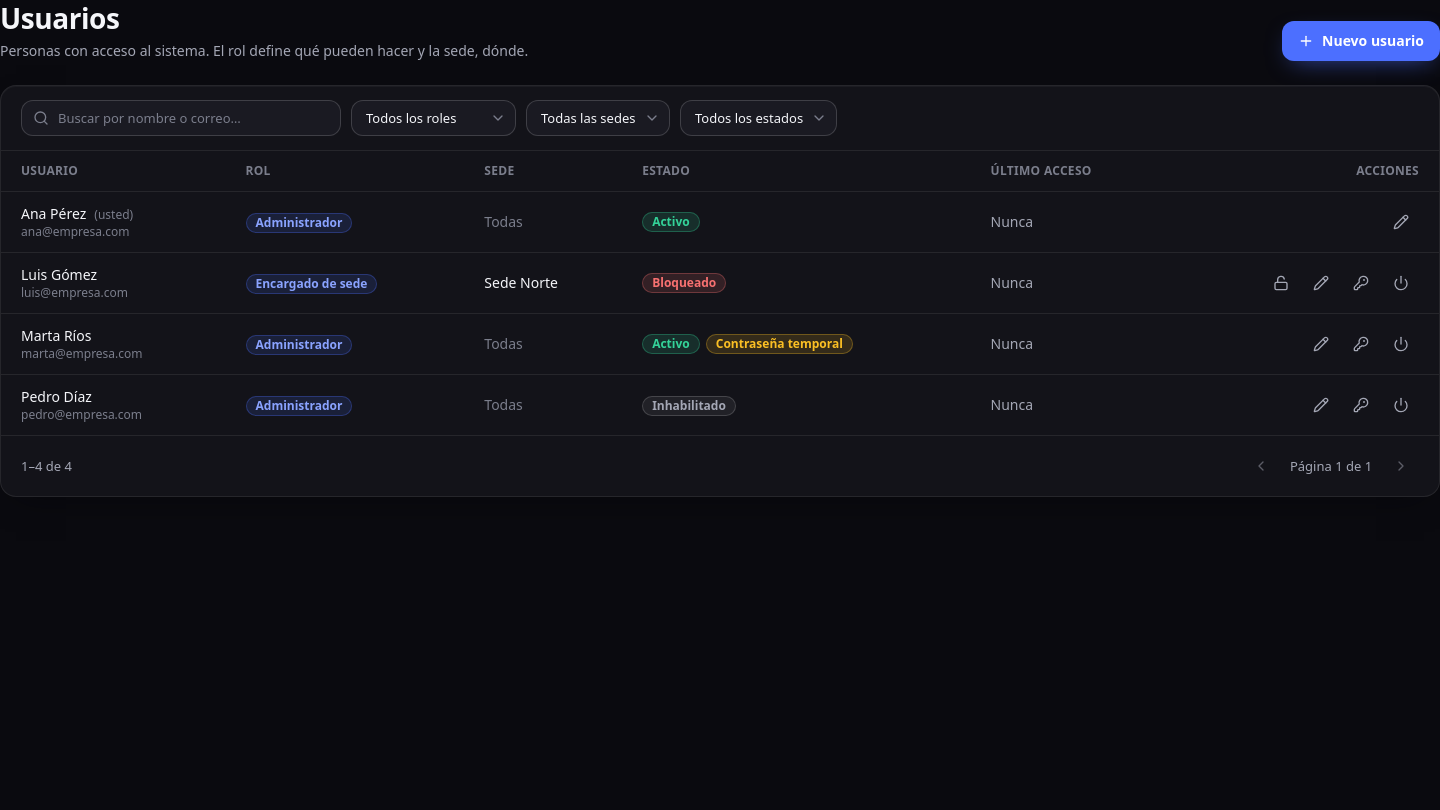
Test case: <UsuariosPage> › rechaza contraseñas que no cumplen la política, con el motivo en español
The image size is (1440, 810).
Click the button "Nuevo usuario" at [1361, 41], box [1282, 21, 1439, 61]
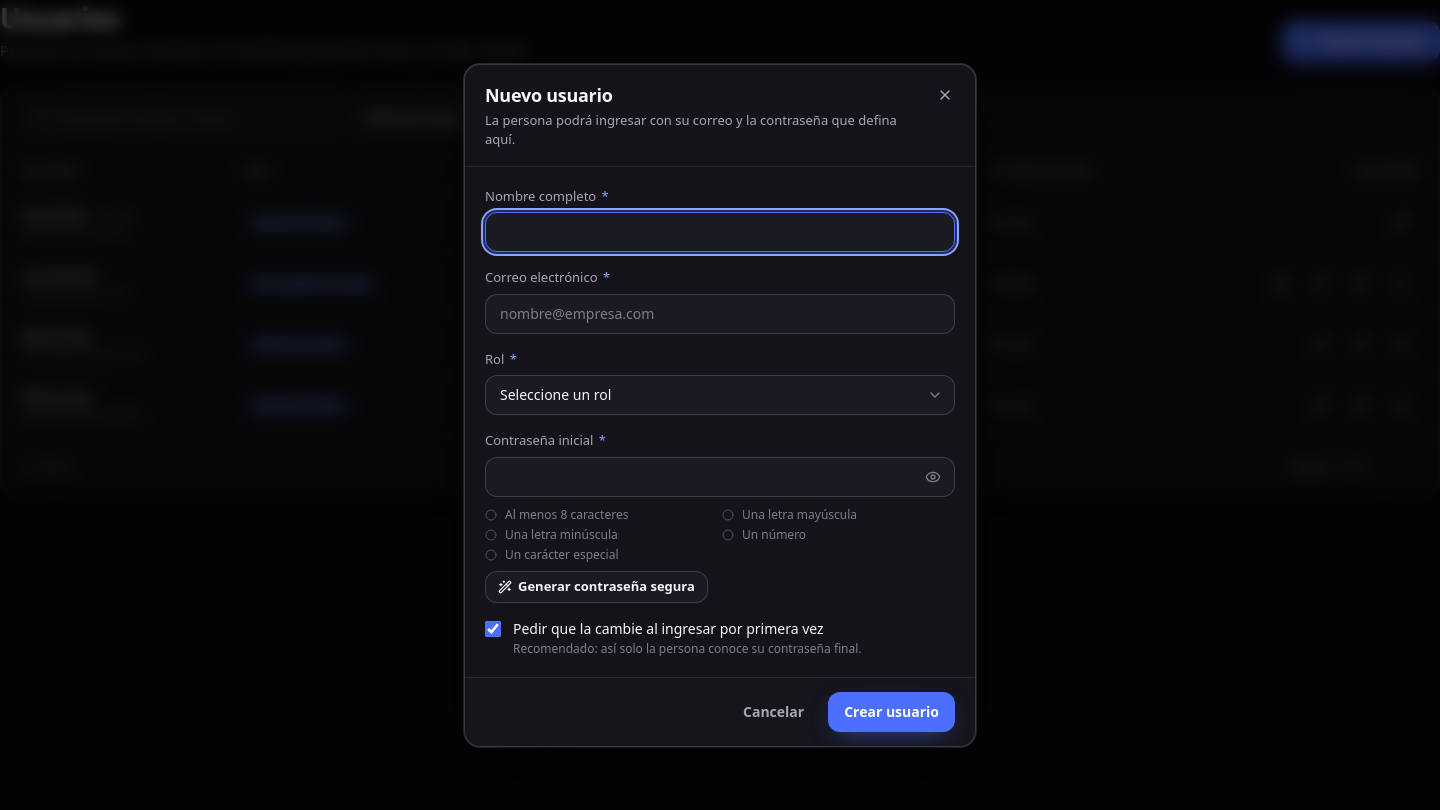
Type "Carla Mora" into the field labelled "Nombre completo *" at [720, 232], box [485, 212, 955, 252]
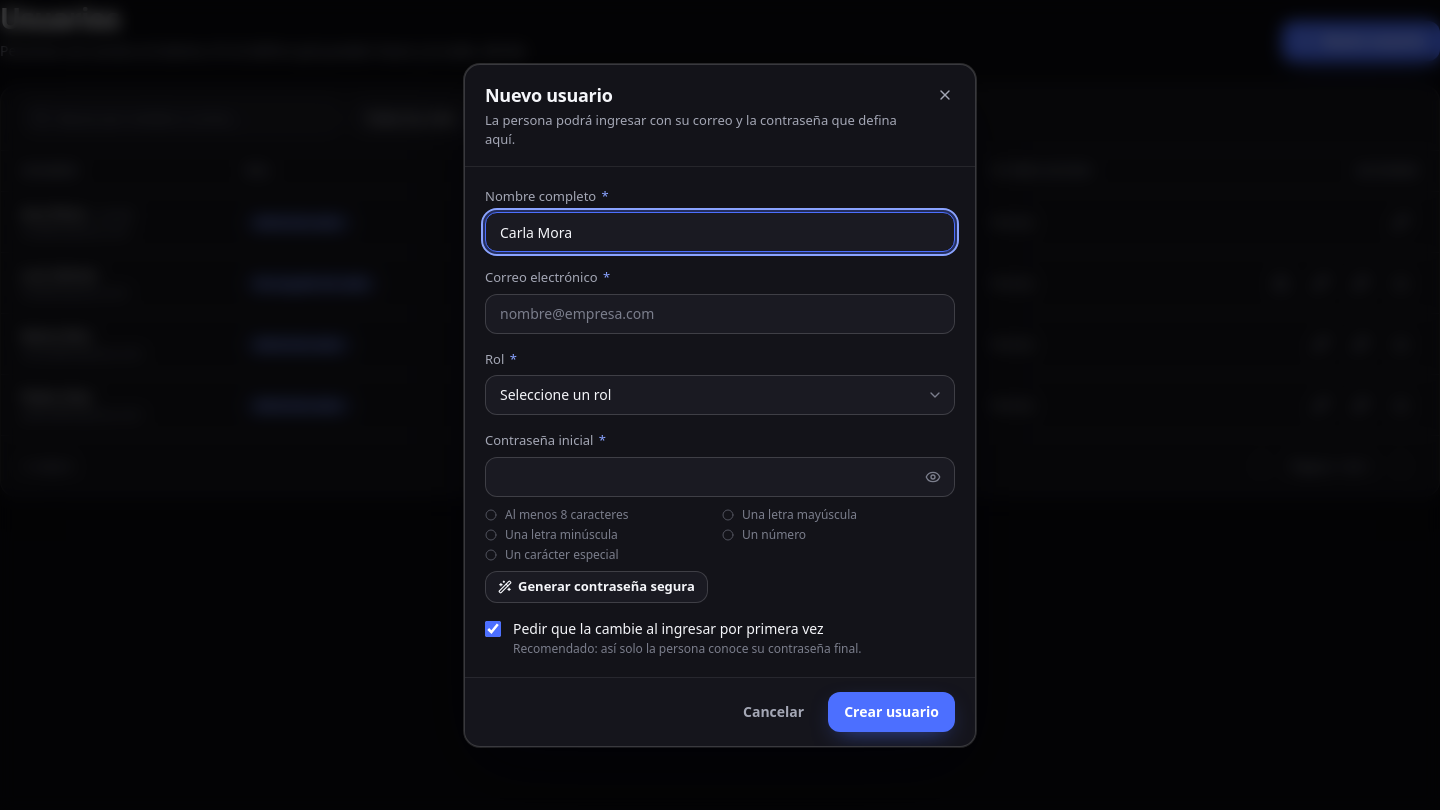
Type "carla@empresa.com" into the field labelled "Correo electrónico *" at [720, 314], box [485, 294, 955, 334]
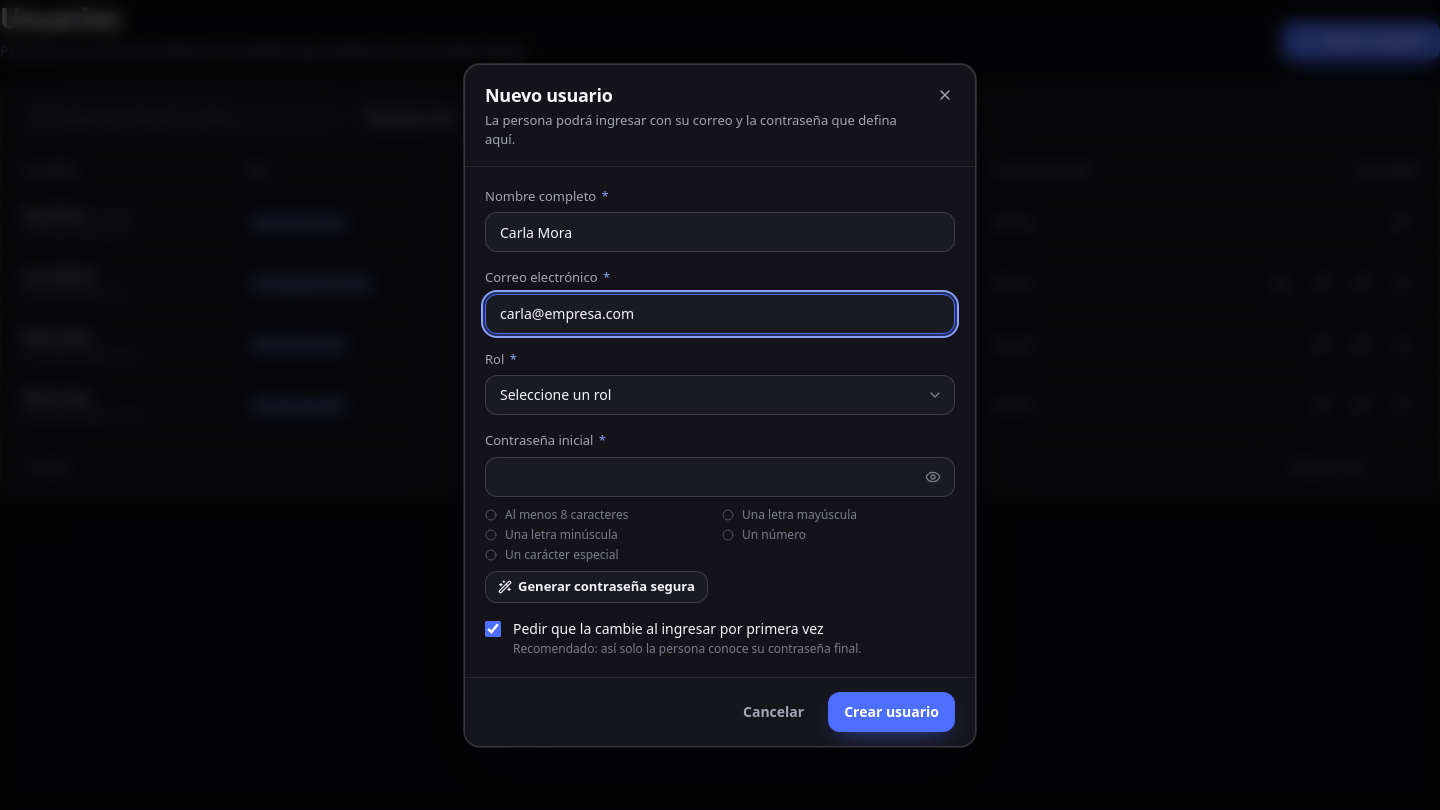
Select "Administrador" in the dropdown labelled "Rol *" at [720, 395], box [485, 375, 955, 415]
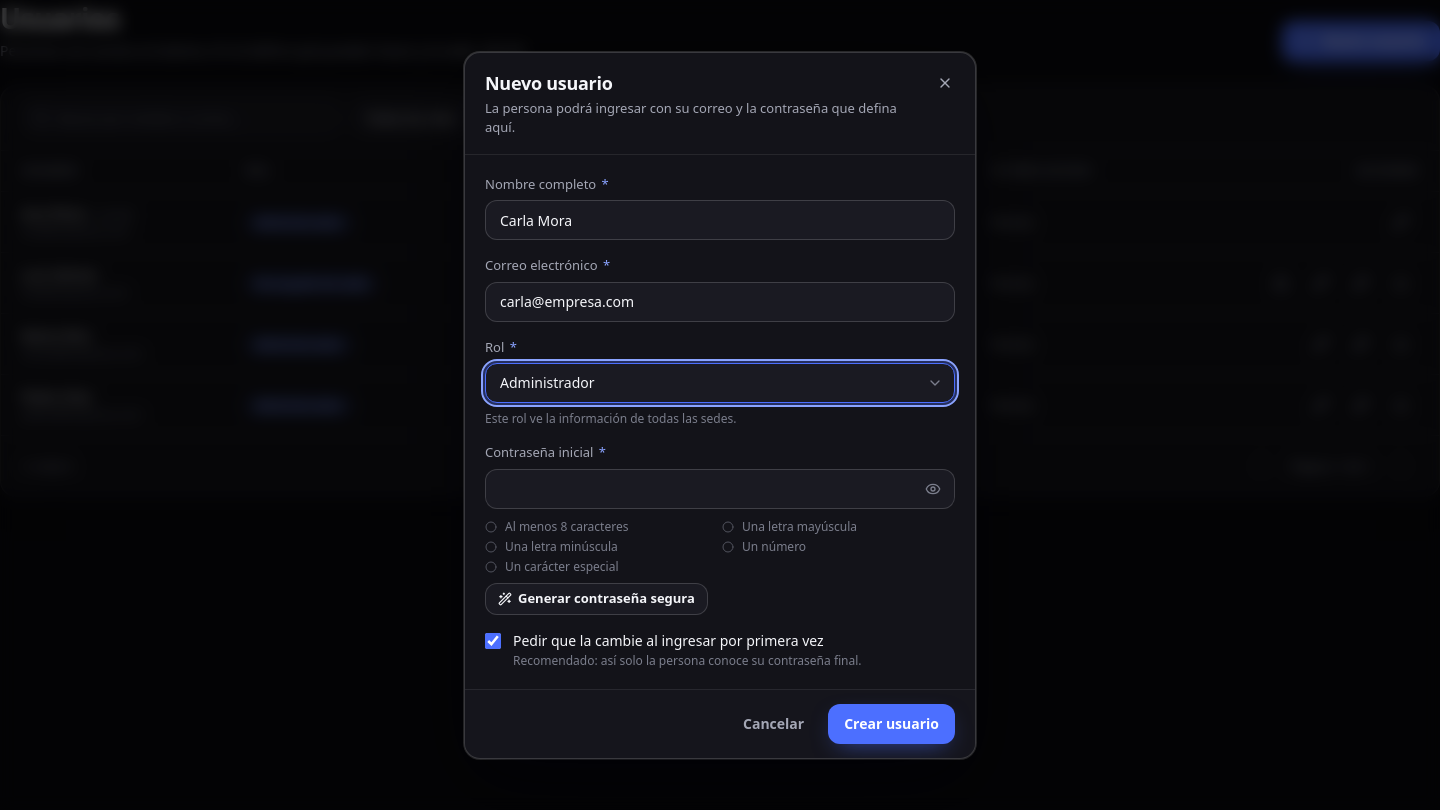
Type "debil" into the password field labelled "Contraseña inicial *" at [720, 488], box [485, 468, 955, 508]
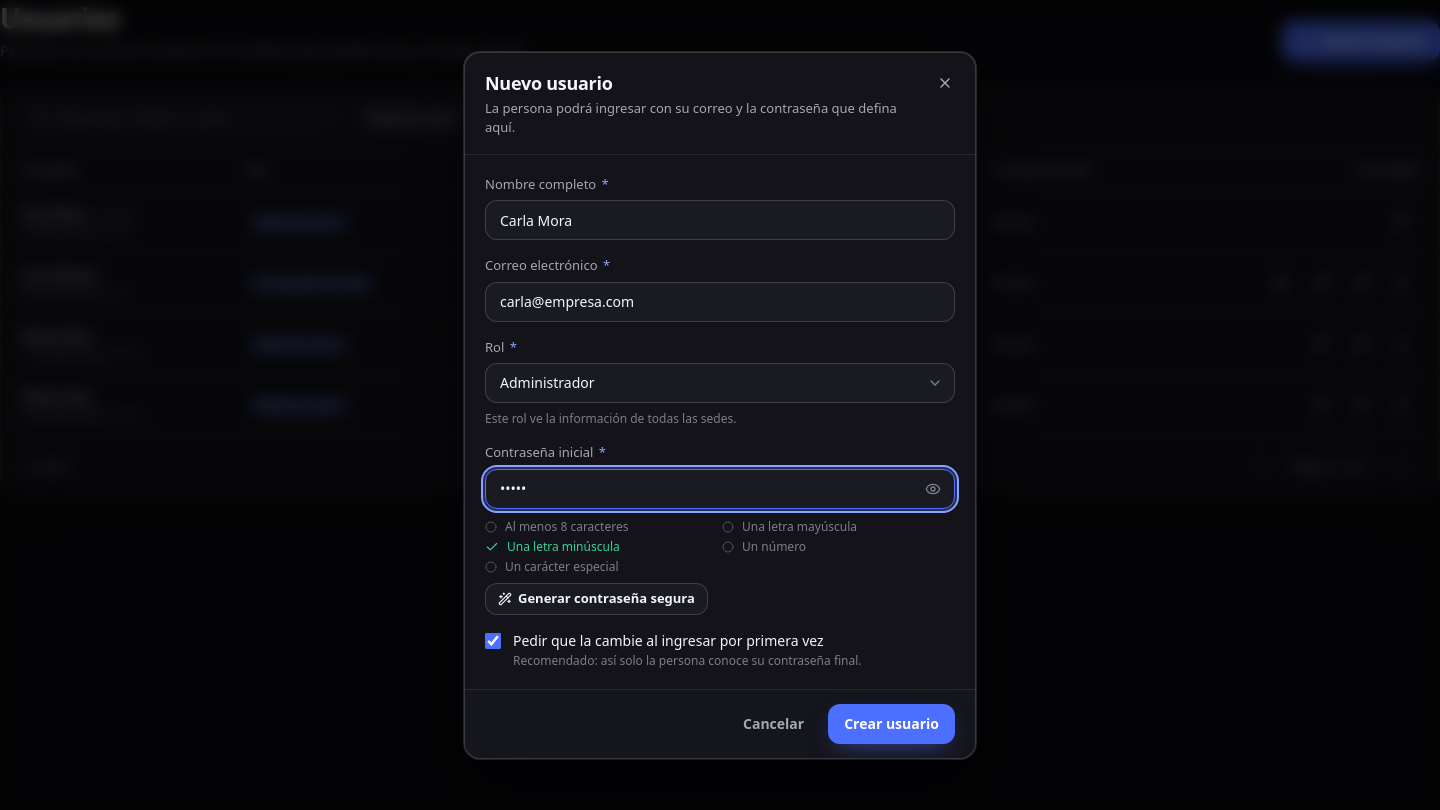
Click the button "Crear usuario" at [892, 724], box [828, 704, 955, 744]
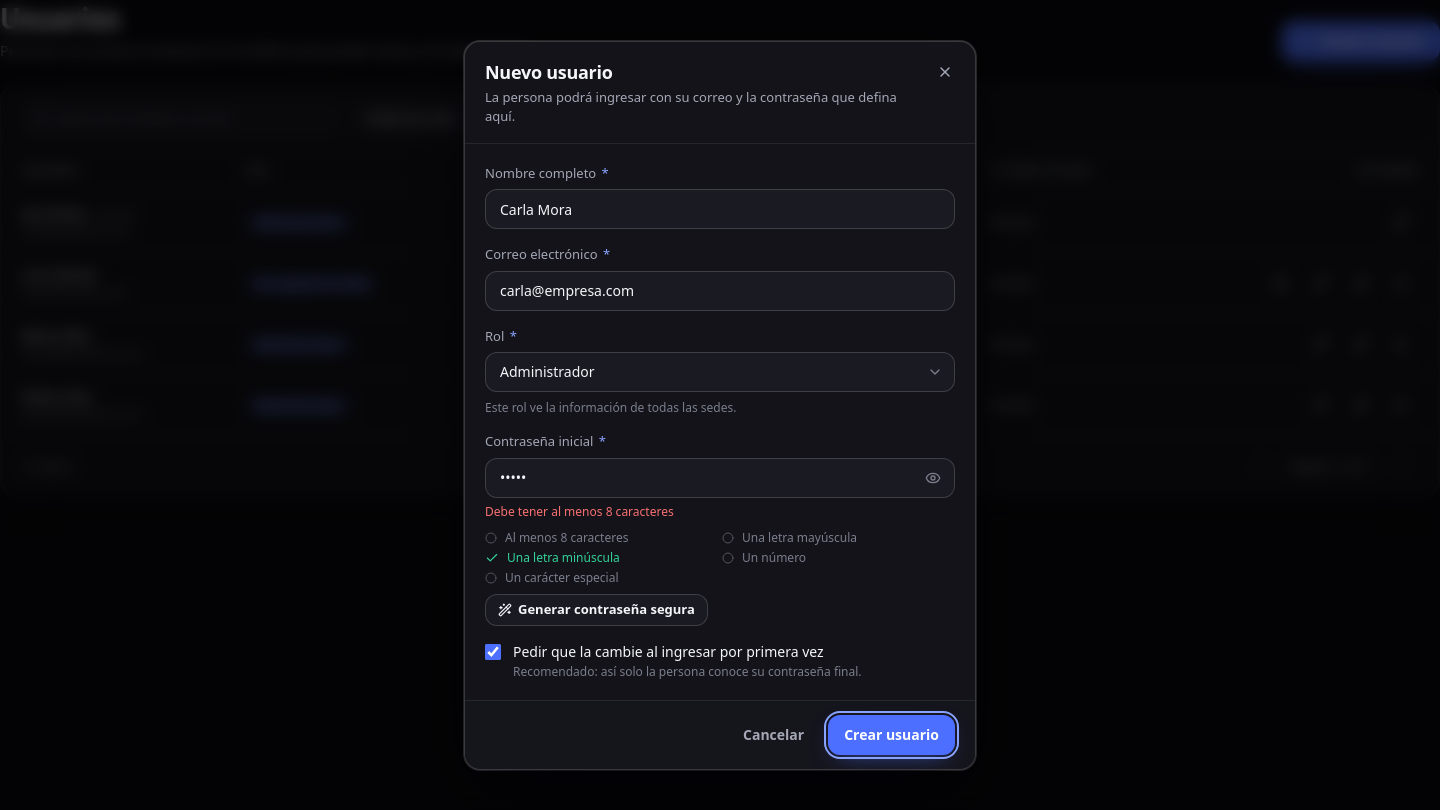
Check: the text "Debe tener al menos 8 caracteres" is shown, box [485, 502, 674, 520]
